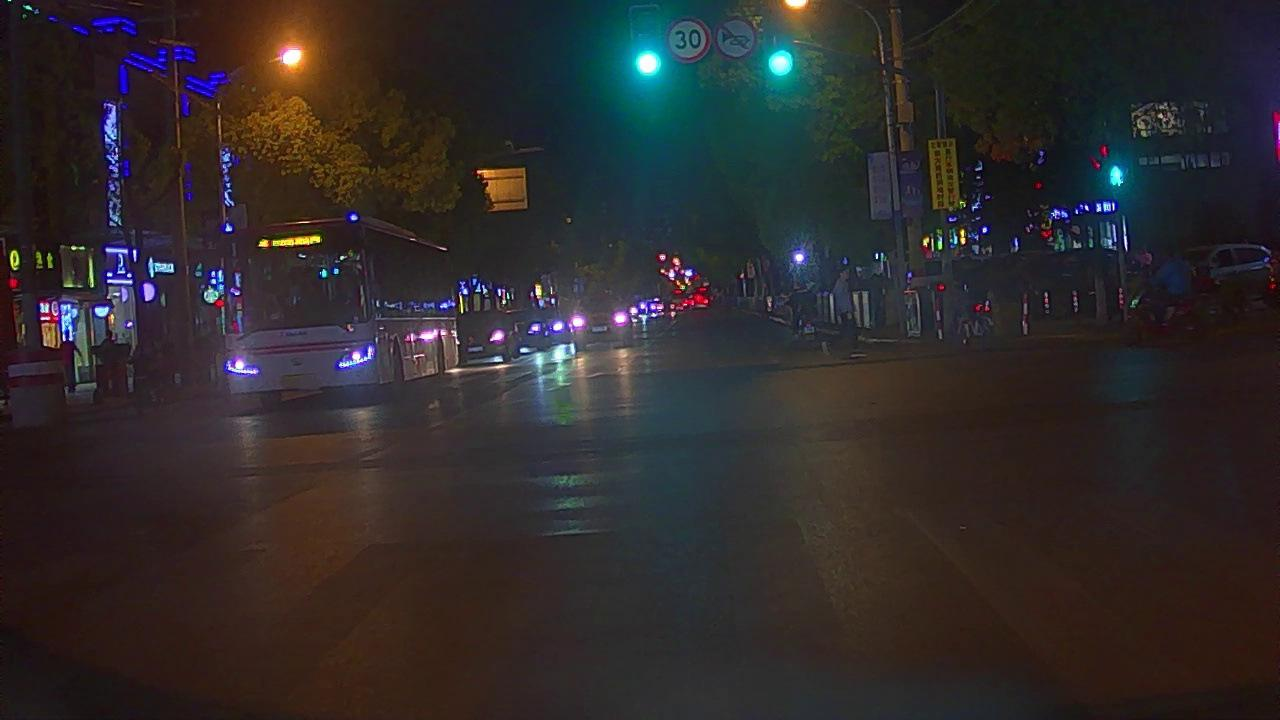traffic_light: (631, 12, 665, 83), (766, 25, 798, 86)
